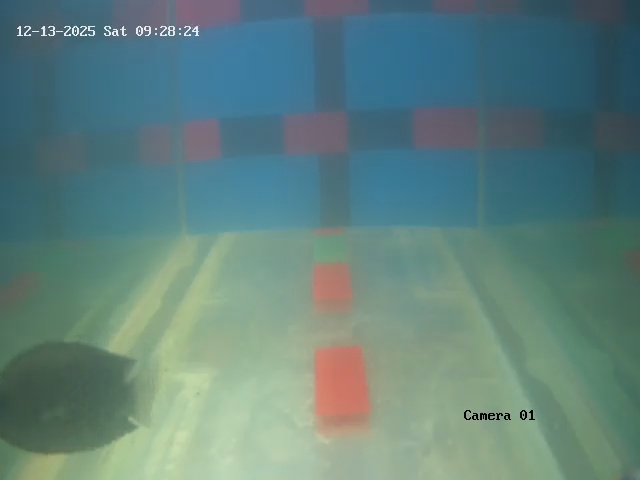fish: (2, 340, 150, 453)
